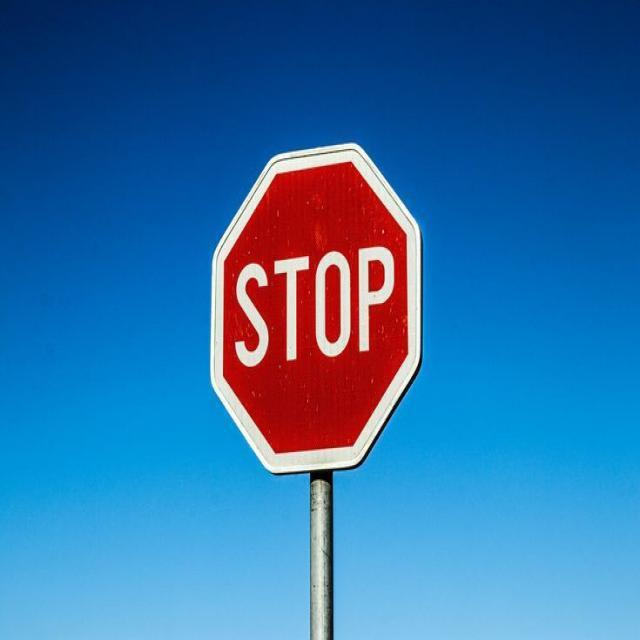stop: (209, 141, 423, 474)
